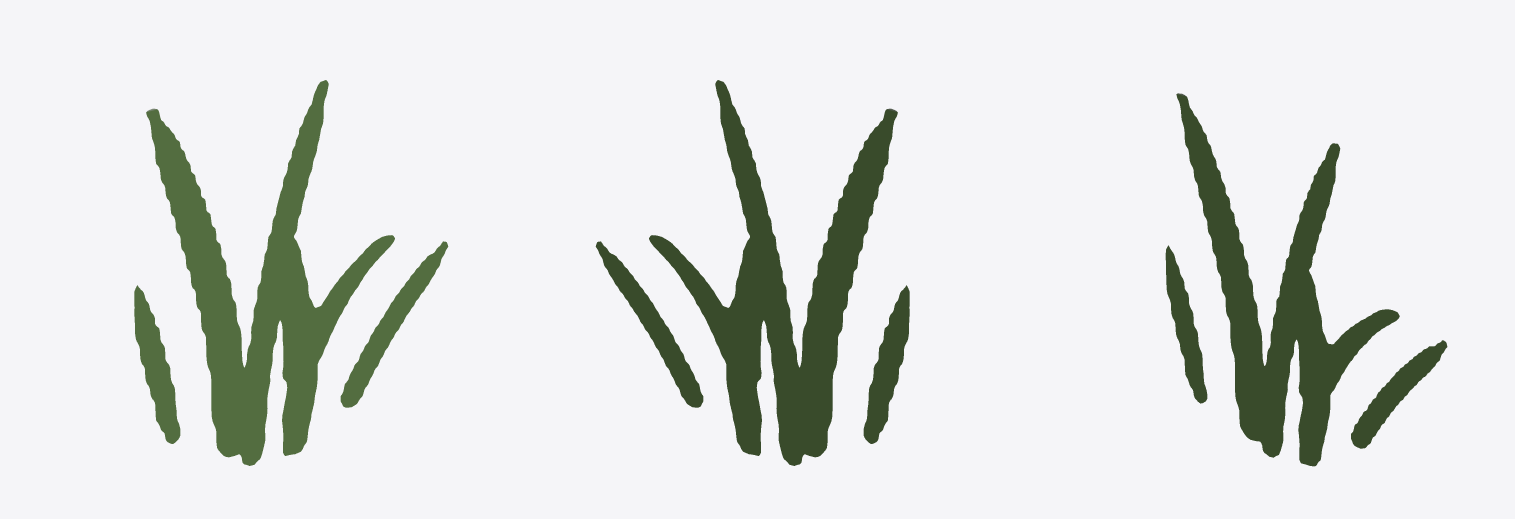
Rendered from SM_Grass_07.fbx.
3 renders of one model, left to right at view 1: azimuth 30°, elevation 25°; view 2: azimuth 150°, elevation 25°; view 3: azimuth 330°, elevation 25°, orthographic. The views are drawn at different scales.
Parts seen in each view (by area): view 1: SM_Grass_07; view 2: SM_Grass_07; view 3: SM_Grass_07.
Boxes of the visible parts, <box> form: SM_Grass_07: <box>134,80,448,465</box>; SM_Grass_07: <box>595,80,909,465</box>; SM_Grass_07: <box>1165,93,1447,466</box>.
Bounding box in the file's own units: 56.68 × 54.92 × 0.
Materials: 1 (1 with a texture image).
